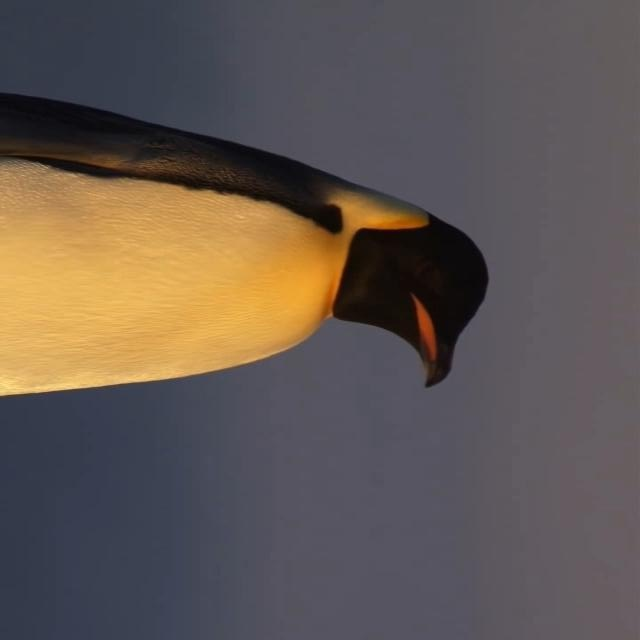penguin: (1, 91, 490, 400)
